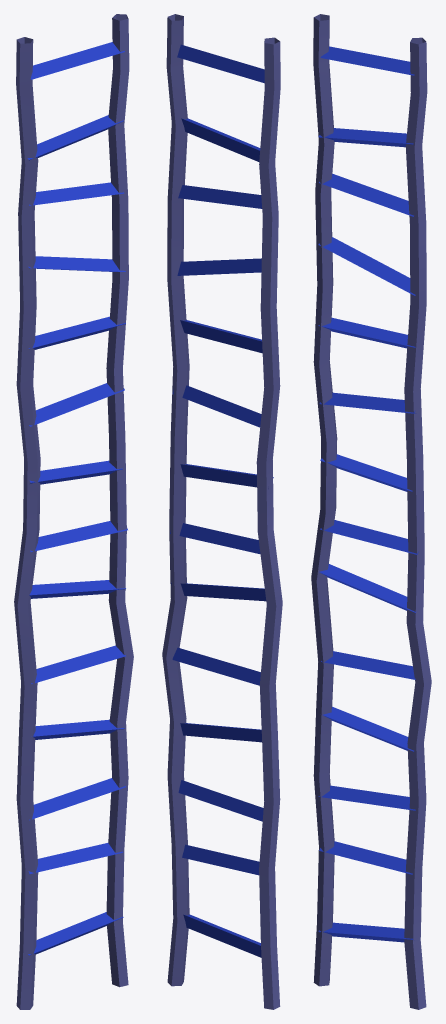
File: MDL_Escalera.FBX
The picture shows the model from 3 angles, left to right: view 1: azimuth 30°, elevation 25°; view 2: azimuth 150°, elevation 25°; view 3: azimuth 330°, elevation 25°; orthographic projection.
Parts seen in each view (by area): view 1: Line008; view 2: Line008; view 3: Line008.
Part boxes in pixels (box(x1,y1,x2,y2)): Line008: box(14, 14, 133, 1009); Line008: box(162, 14, 282, 1009); Line008: box(311, 14, 431, 1009).
Bounding box in the file's own units: 33.21 × 261 × 4.24.
